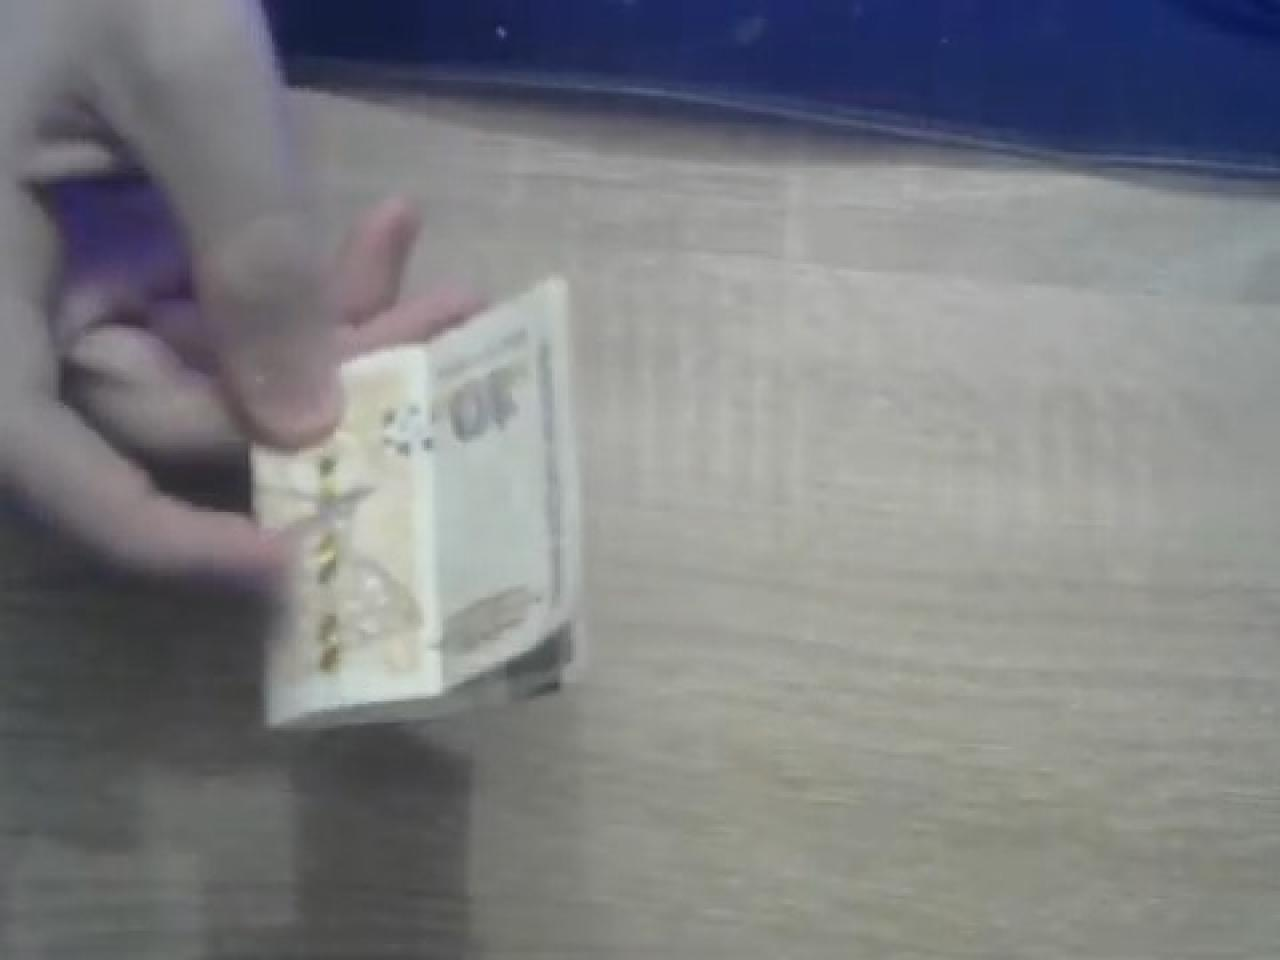10leva: (245, 271, 584, 733)
